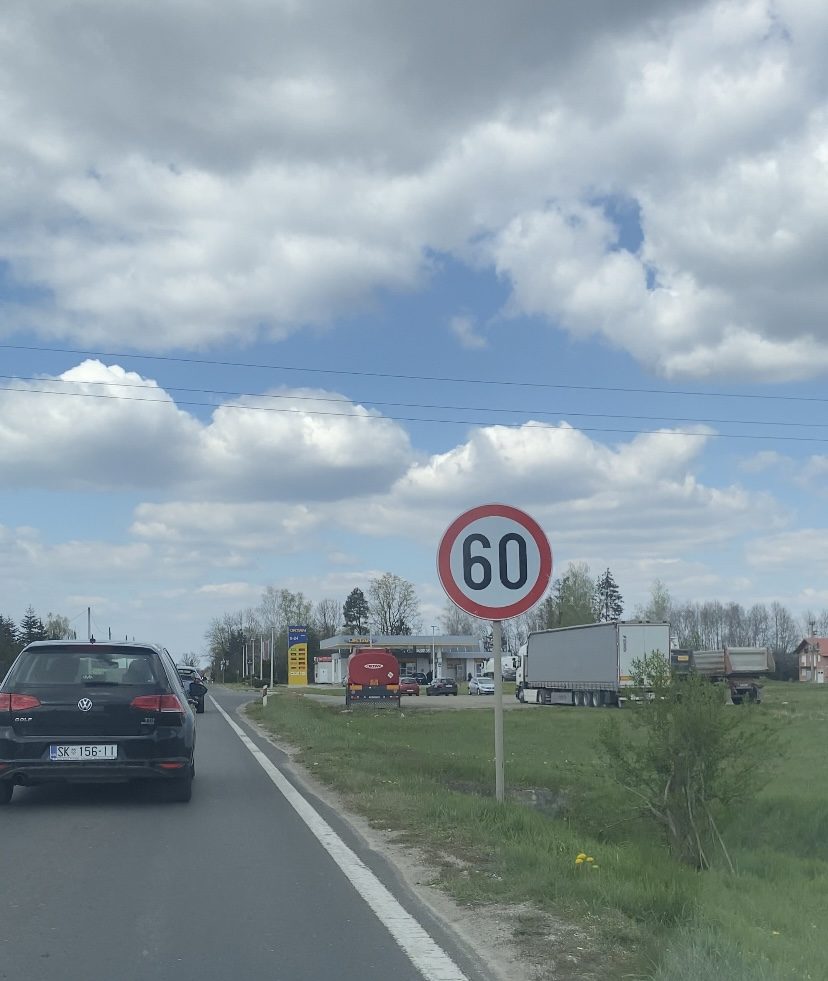Ograničenje brzine 60: (437, 503, 553, 621)
